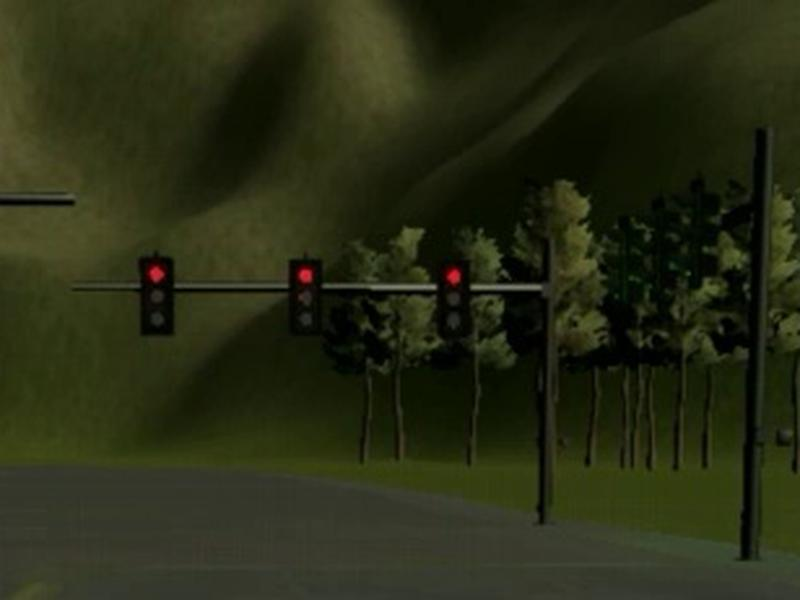Red: (289, 260, 324, 333), (142, 257, 175, 334), (441, 260, 470, 337)
